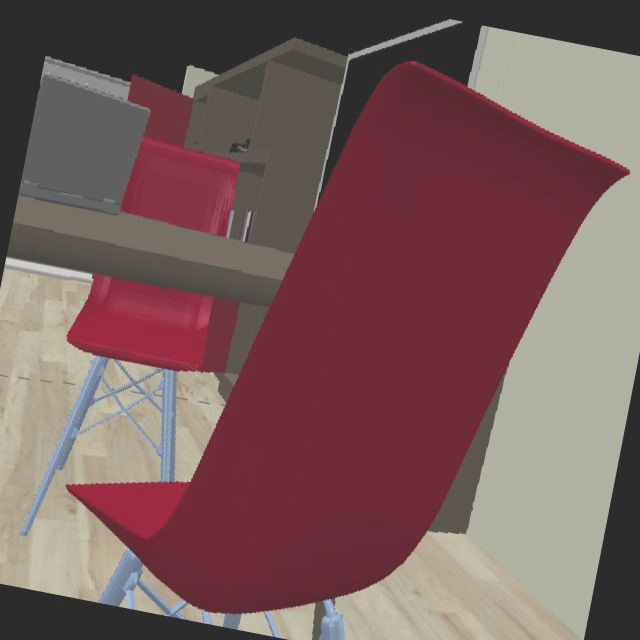book: (240, 209, 256, 244)
bookshelf: (183, 38, 347, 255), (225, 304, 269, 376)
chair: (67, 61, 630, 640), (20, 277, 213, 539), (119, 137, 239, 238)
laptop: (18, 76, 150, 215)
monitor: (317, 19, 483, 203)
table: (6, 192, 289, 309)
